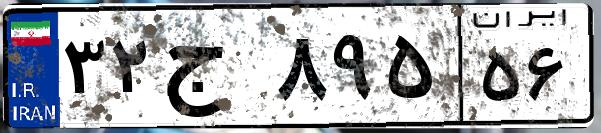2: (110, 28, 158, 98)
3: (57, 26, 110, 100)
5: (385, 28, 445, 110), (475, 38, 525, 113)
6: (525, 38, 570, 115)
8: (270, 28, 330, 110)
9: (330, 28, 385, 110)
ج: (158, 20, 270, 120)
